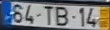1: (78, 6, 85, 28)
4: (85, 7, 97, 28), (23, 4, 35, 25)
6: (12, 3, 23, 24)
B: (55, 6, 68, 27)
T: (43, 5, 54, 26)
